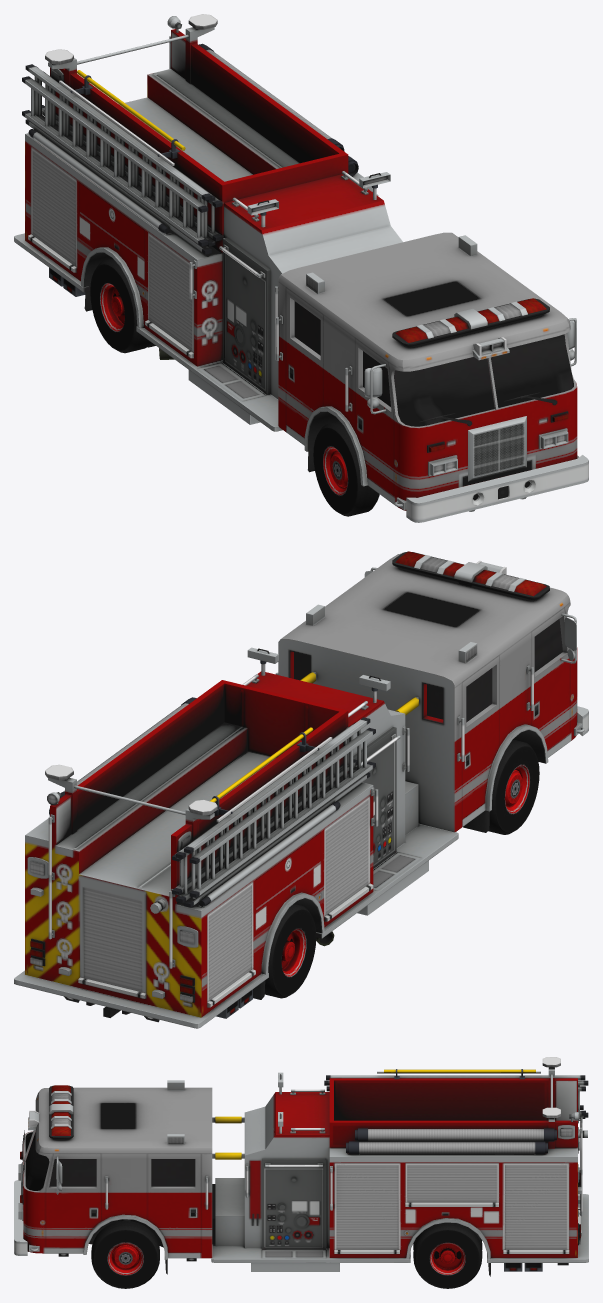
The model's file is fier truck.fbx.
3 views of the same model, one above another, from view 1: azimuth 30°, elevation 25°; view 2: azimuth 150°, elevation 25°; view 3: azimuth 270°, elevation 25° (orthographic). The views are drawn at different scales.
Visible parts, largest first — view 1: BODY, polySurface4, polySurface2; view 2: BODY, polySurface4, polySurface2; view 3: BODY, polySurface1, polySurface3.
Boxes of the visible parts, x1,y1,x2,y2 form: BODY: [14, 14, 588, 522]; polySurface4: [313, 421, 379, 516]; polySurface2: [90, 258, 155, 353]; BODY: [14, 551, 588, 1028]; polySurface4: [488, 739, 539, 834]; polySurface2: [264, 904, 316, 998]; BODY: [14, 1057, 588, 1276]; polySurface1: [91, 1221, 159, 1288]; polySurface3: [413, 1222, 482, 1288].
Bounding box in the file's own units: 312 × 335 × 1014.
